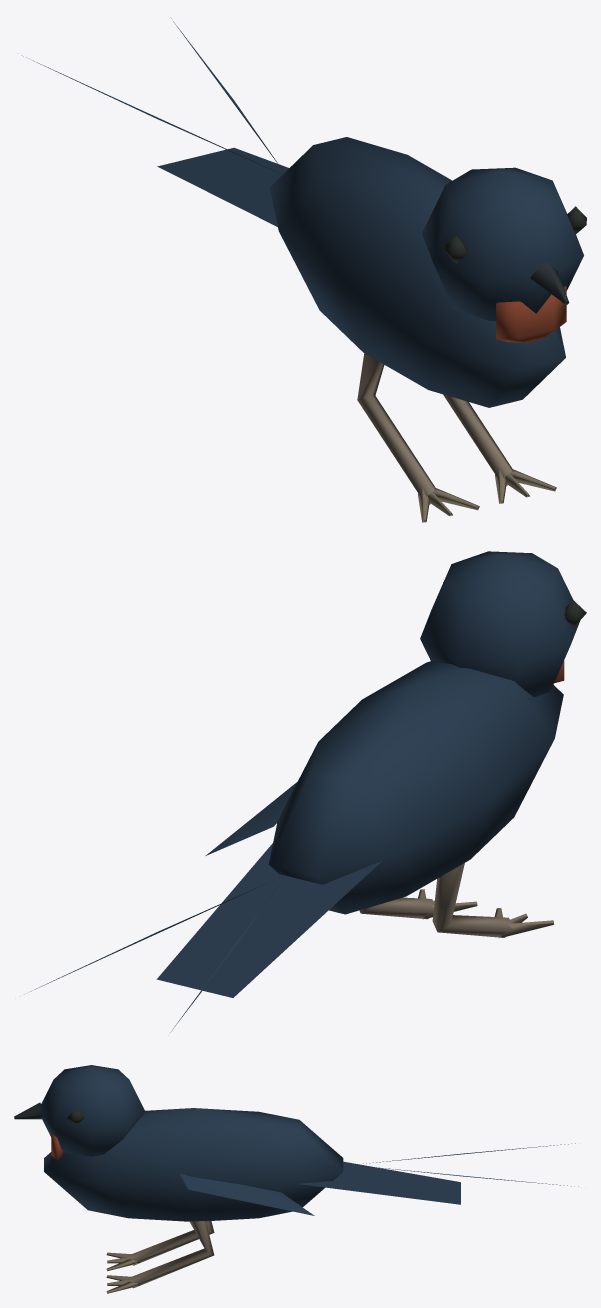
File: swallow-0.glb
The picture shows the model from 3 angles, top to bottom: view 1: azimuth 30°, elevation 25°; view 2: azimuth 150°, elevation 25°; view 3: azimuth 270°, elevation 25°; orthographic projection. The views are drawn at different scales.
Parts seen in each view (by area): view 1: swallow; view 2: swallow; view 3: swallow.
Boxes of the visible parts, bbox=[...] form: swallow: bbox=[21, 17, 586, 522]; swallow: bbox=[24, 551, 586, 1032]; swallow: bbox=[14, 1065, 578, 1293].
Bounding box in the file's own units: 0.0985 × 0.1477 × 0.3643.
